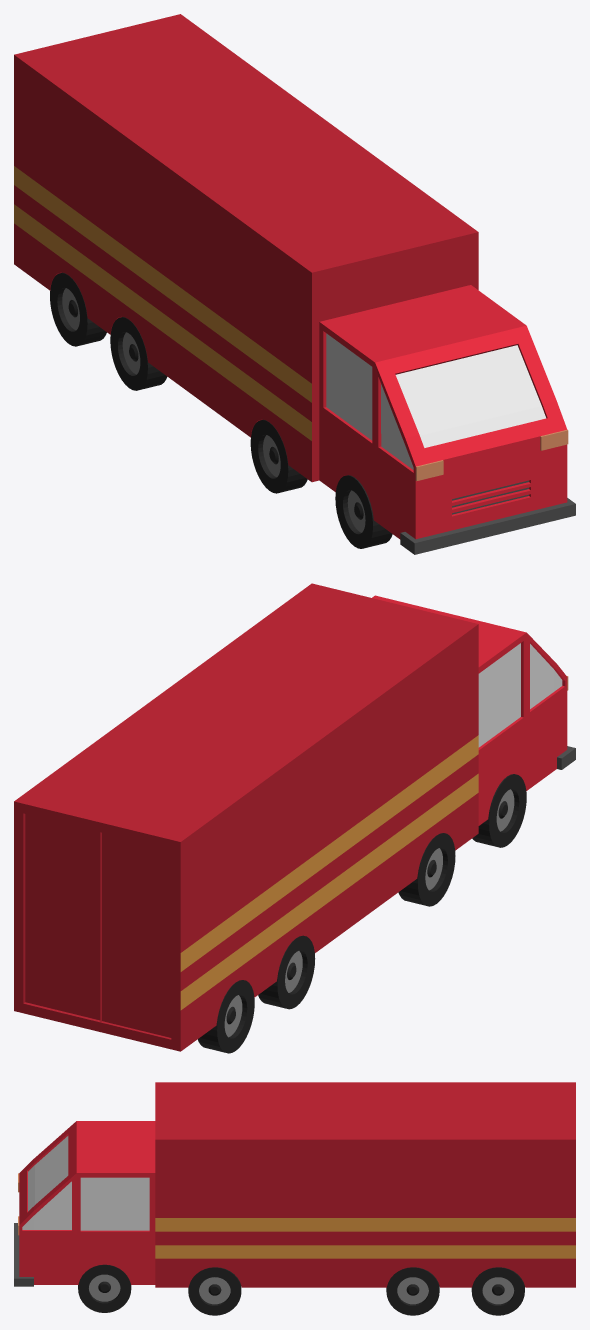
The model's file is long-truck-moving-animation.fbx.
3 renders of one model, top to bottom at view 1: azimuth 30°, elevation 25°; view 2: azimuth 150°, elevation 25°; view 3: azimuth 270°, elevation 25°, orthographic. The views are drawn at different scales.
Visible parts, largest first — view 1: Cube, Cylinder.002, Cylinder.006, Cylinder.003, Cylinder.008; view 2: Cube, Cylinder.003, Cylinder.008, Cylinder.006, Cylinder.002; view 3: Cube, Cylinder.005, Cylinder.001, Cylinder.007, Cylinder.004.
Part boxes in pixels (x1,y1,x2,y2): Cube: (14,14,575,554); Cylinder.002: (335,475,392,548); Cylinder.006: (110,317,167,390); Cylinder.003: (250,419,307,493); Cylinder.008: (50,272,106,346); Cube: (14,583,575,1051); Cylinder.003: (398,833,455,906); Cylinder.008: (198,980,254,1053); Cylinder.006: (258,935,315,1009); Cylinder.002: (472,774,526,847); Cube: (14,1082,575,1287); Cylinder.005: (386,1267,439,1315); Cylinder.001: (188,1267,241,1315); Cylinder.007: (471,1267,524,1315); Cylinder.004: (78,1264,131,1312).
Bounding box in the file's own units: 682 × 968 × 2804.
